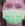with_mask: (2, 1, 25, 26)
